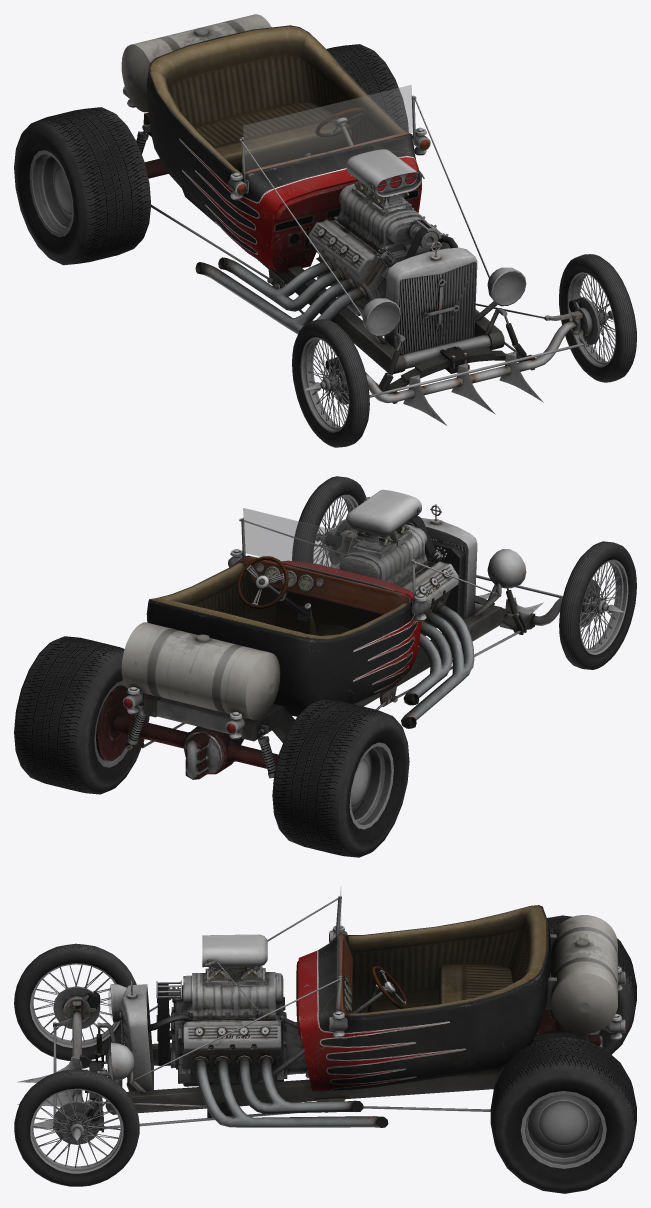
Rendered from car-transformed.glb.
The picture shows the model from 3 angles, top to bottom: view 1: azimuth 30°, elevation 25°; view 2: azimuth 150°, elevation 25°; view 3: azimuth 270°, elevation 25°; orthographic projection. The views are drawn at different scales.
Visible parts, largest first — view 1: HotRod; view 2: HotRod; view 3: HotRod.
Part boxes in pixels (left/top/right/bottom): HotRod: left=14, top=14, right=636, bottom=447; HotRod: left=14, top=476, right=636, bottom=857; HotRod: left=14, top=890, right=636, bottom=1193.
Bounding box in the file's own units: 1.34 × 0.7939 × 2.28.
4 materials, 4 textured.
